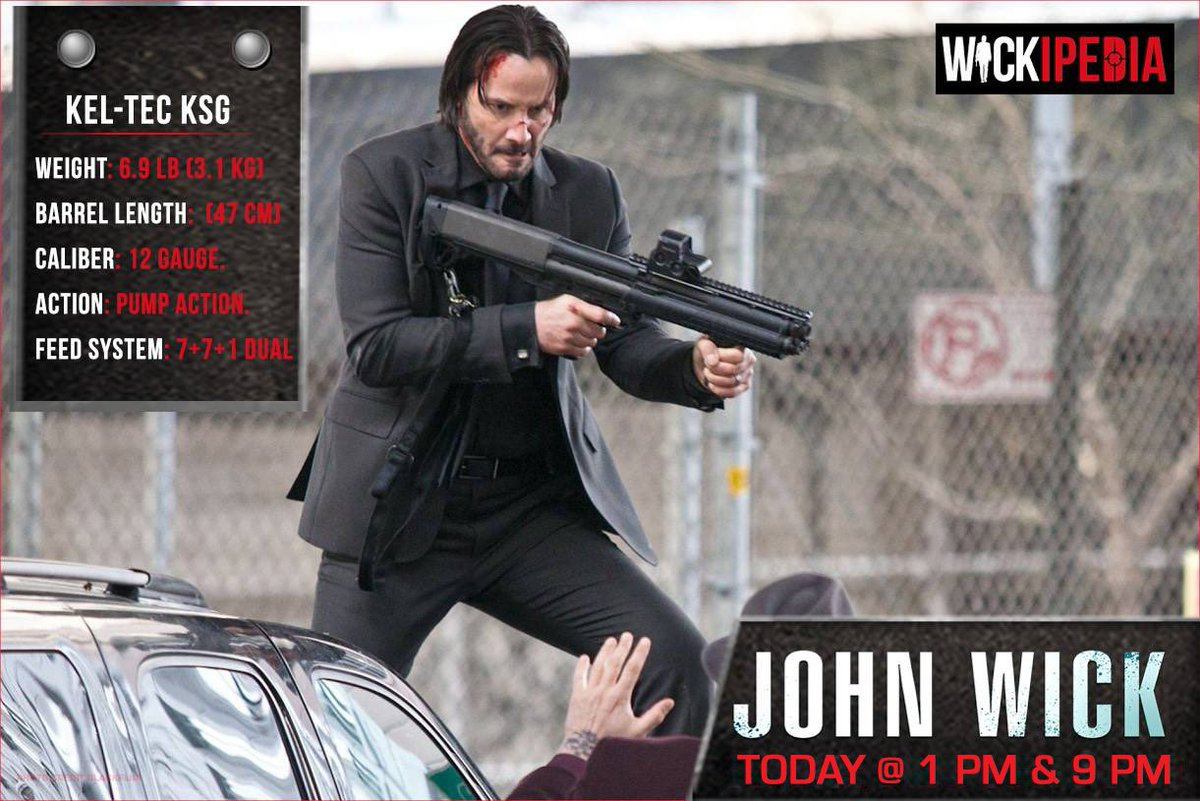gun: (413, 184, 819, 412)
